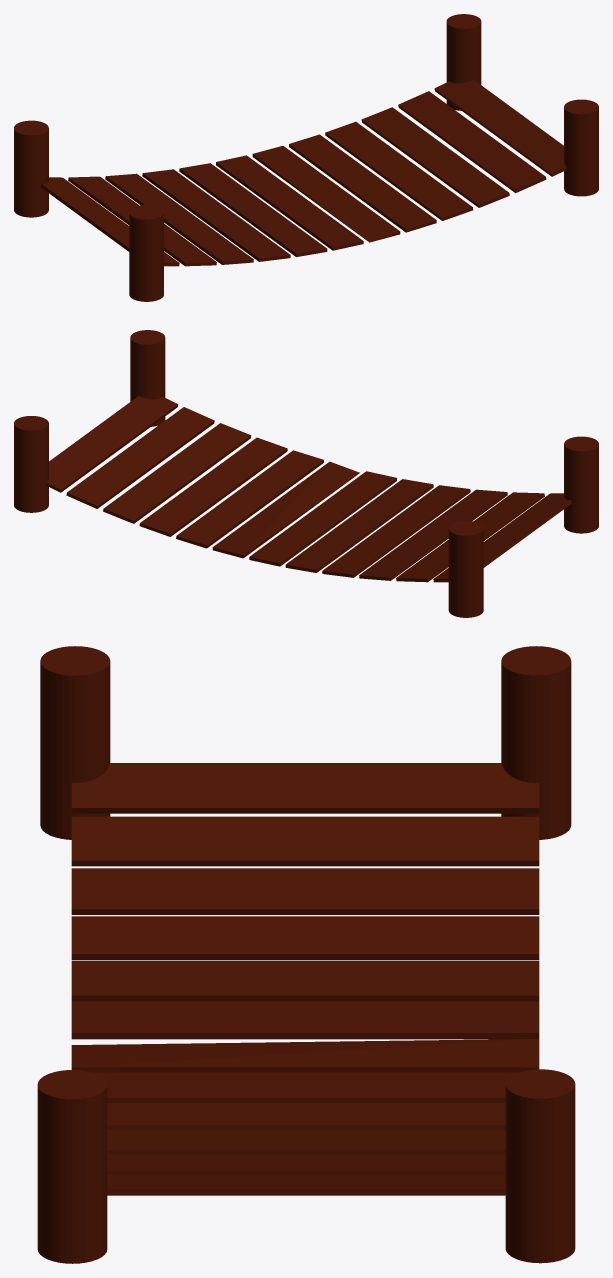
Rendered from low_poly_bridge.obj.
The picture shows the model from 3 angles, top to bottom: view 1: azimuth 30°, elevation 25°; view 2: azimuth 150°, elevation 25°; view 3: azimuth 270°, elevation 25°; orthographic projection. The views are drawn at different scales.
Visible parts, largest first — view 1: Cube_Cube.002; view 2: Cube_Cube.002; view 3: Cube_Cube.002.
Boxes of the visible parts, x1=… form: Cube_Cube.002: x1=14, y1=14, x2=598, y2=301; Cube_Cube.002: x1=14, y1=330, x2=598, y2=617; Cube_Cube.002: x1=37, y1=646, x2=575, y2=1263.
Size of the model in its own units: 30.7 by 5.29 by 15.39.
